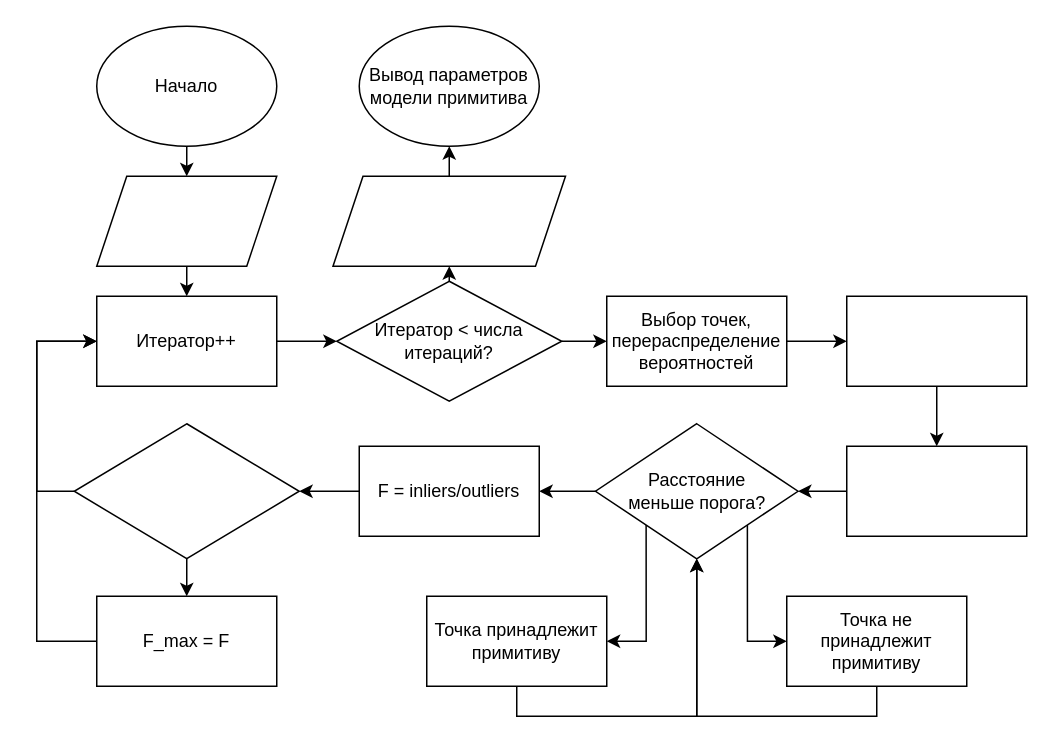
Some shapes in this 1053 by 755 pixel diagram are drawn without their labels. The shapes that lost their labels are listed below. From the top down, each one's box as (x1, y1, x2, y2) in pixels, then its label:
(95, 175, 277, 266): Облако точек
(332, 175, 566, 266): Параметры примитива, F_max
(845, 295, 1027, 386): Расчет математической модели примитива
(73, 422, 299, 559): F>F_max?
(845, 445, 1027, 536): Расчет расстояний от поверхности модели до остальных точек
